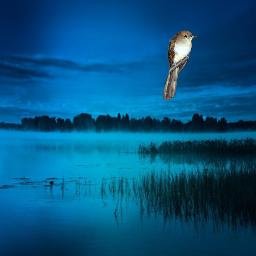Cuckoo: (163, 30, 197, 100)
